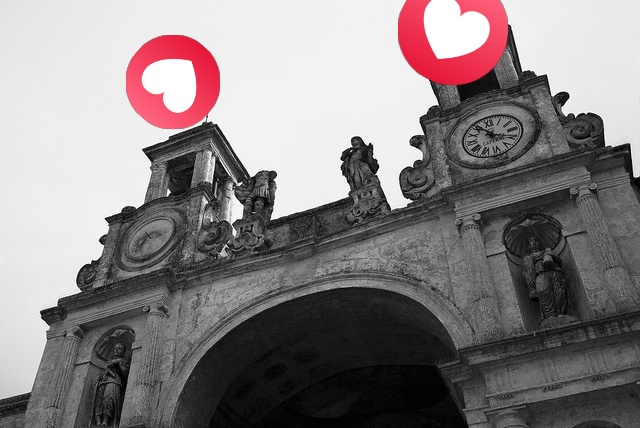love: (398, 0, 508, 85), (126, 35, 220, 129)
